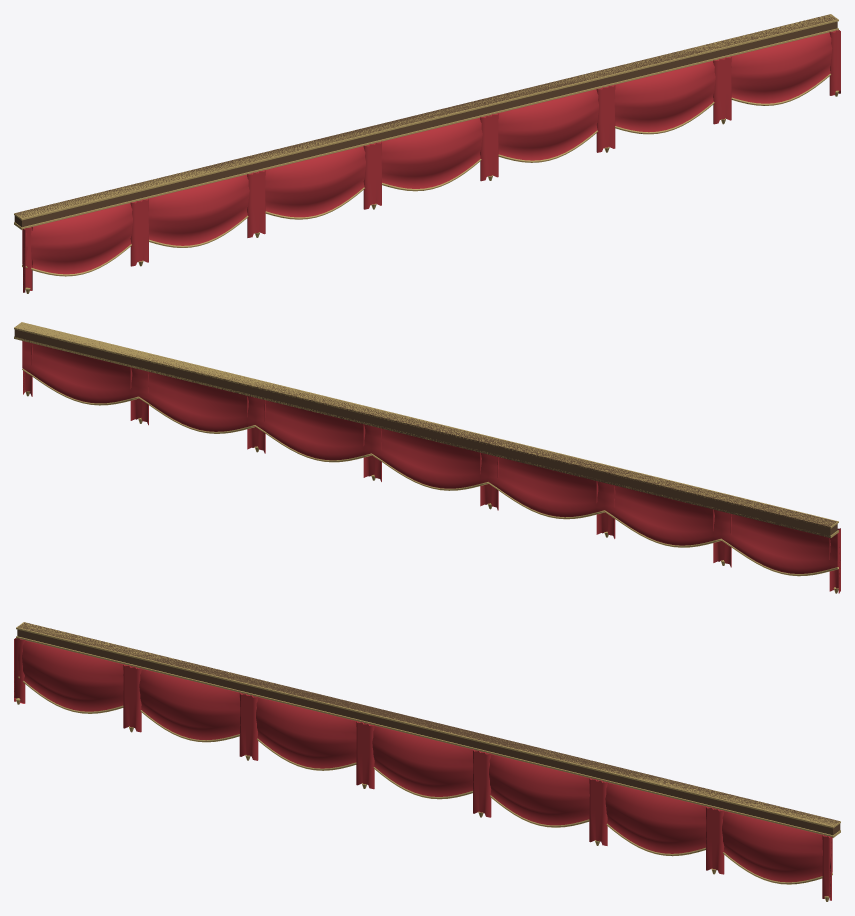
File: valance.glb
The picture shows the model from 3 angles, top to bottom: view 1: azimuth 30°, elevation 25°; view 2: azimuth 150°, elevation 25°; view 3: azimuth 330°, elevation 25°; orthographic projection.
Visible parts, largest first — view 1: velvet__valance__solid, dark_wood__valance__solid, brass__valance__solid; view 2: velvet__valance__solid, dark_wood__valance__solid, brass__valance__solid; view 3: velvet__valance__solid, dark_wood__valance__solid, brass__valance__solid.
Boxes of the visible parts, x1,y1,x2,y2 form: velvet__valance__solid: [22, 30, 840, 292]; dark_wood__valance__solid: [14, 14, 837, 227]; brass__valance__solid: [14, 14, 838, 276]; velvet__valance__solid: [22, 341, 840, 593]; dark_wood__valance__solid: [14, 328, 837, 537]; brass__valance__solid: [14, 322, 838, 576]; velvet__valance__solid: [14, 638, 832, 900]; dark_wood__valance__solid: [17, 622, 840, 835]; brass__valance__solid: [16, 622, 840, 884].
Size of the model in its own units: 23.04 by 2 by 0.6724.
